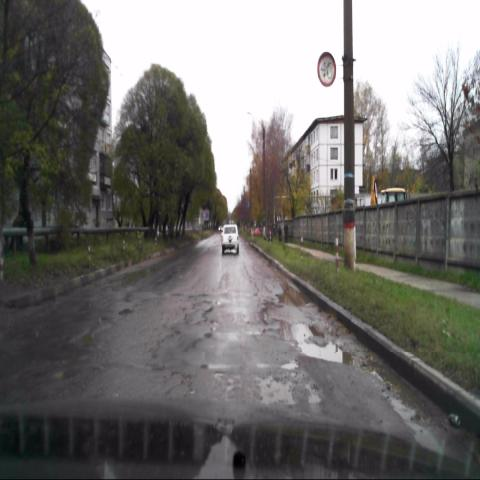3_24: (317, 52, 336, 88)
